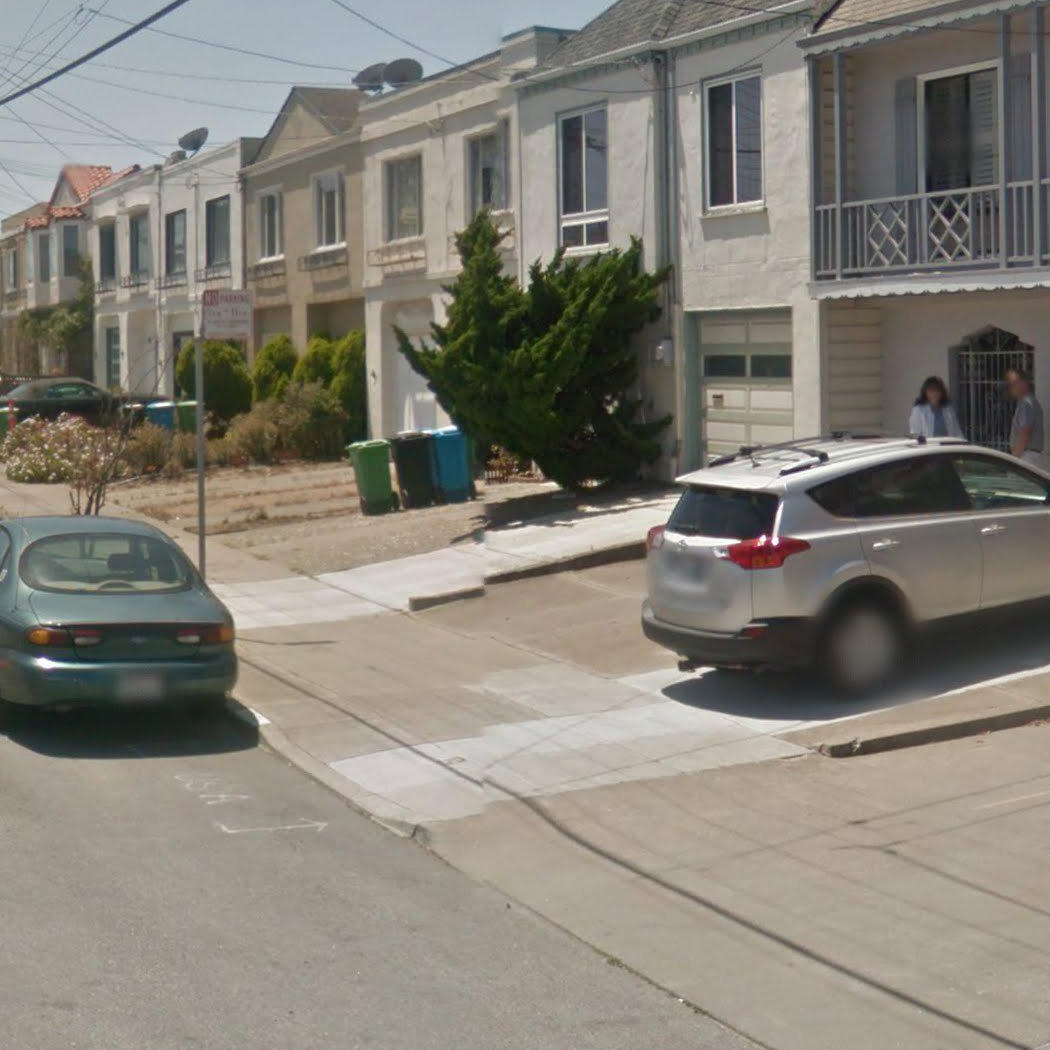No Parking: (202, 288, 253, 340)
